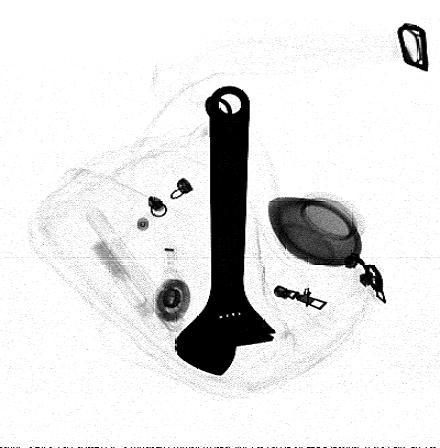Wrench: (177, 80, 276, 377)
